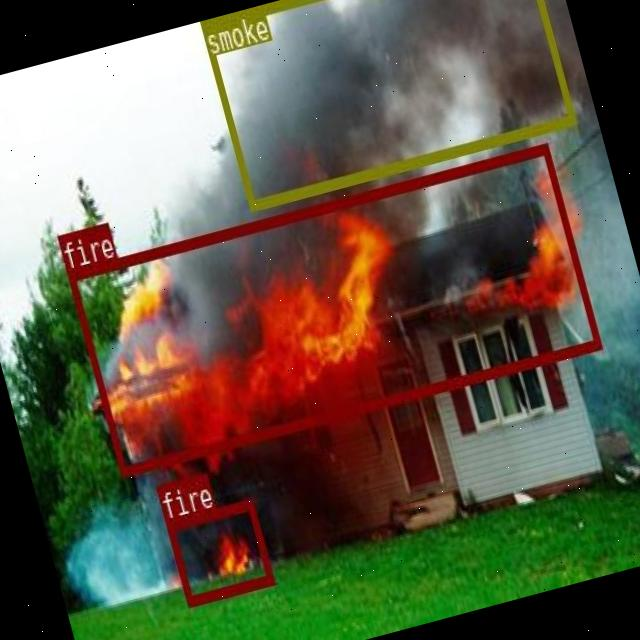fire: (65, 142, 600, 476), (164, 497, 274, 605)
smoke: (198, 0, 573, 207)
